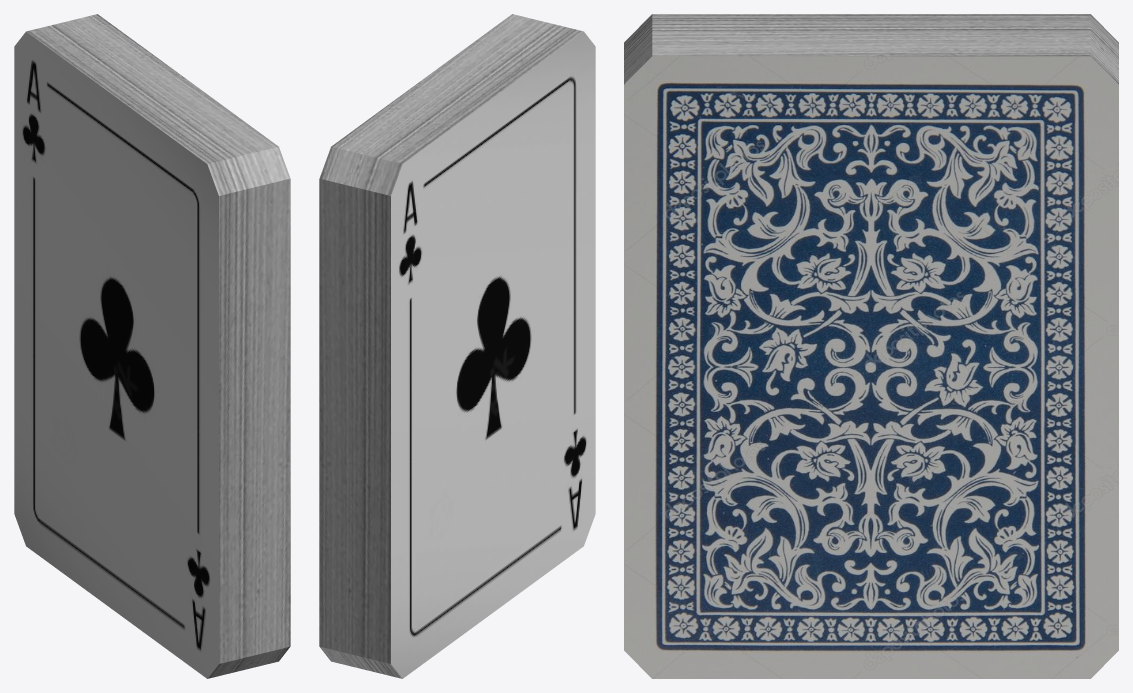
Rendered from Card_pack_pieces.fbx.
3 renders of one model, left to right at view 1: azimuth 30°, elevation 25°; view 2: azimuth 150°, elevation 25°; view 3: azimuth 270°, elevation 25°, orthographic. The views are drawn at different scales.
Visible parts, largest first — view 1: Card_piece_top, Card_piece_bottom; view 2: Card_piece_top, Card_piece_bottom; view 3: Card_piece_top, Card_piece_bottom.
Boxes of the visible parts, x1,y1,x2,y2 form: Card_piece_top: (14, 14, 290, 475); Card_piece_bottom: (14, 326, 290, 678); Card_piece_top: (319, 14, 595, 475); Card_piece_bottom: (319, 326, 595, 678); Card_piece_top: (624, 14, 1118, 422); Card_piece_bottom: (624, 422, 1118, 678).
Bounding box in the file's own units: 120 × 825 × 594.
